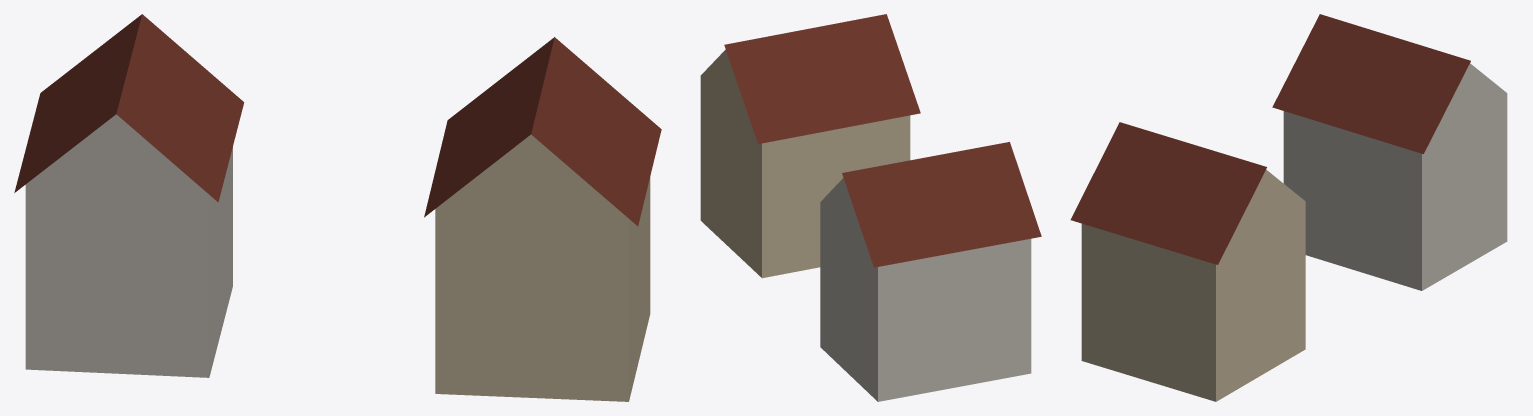
3 renders of one model, left to right at view 1: azimuth 30°, elevation 25°; view 2: azimuth 150°, elevation 25°; view 3: azimuth 270°, elevation 25°, orthographic. The views are drawn at different scales.
Visible parts, largest first — view 1: buildings; view 2: buildings; view 3: buildings.
Part boxes in pixels (x1,y1,x2,y2): buildings: (14,14,661,401); buildings: (700,14,1041,401); buildings: (1070,14,1507,401).
Size of the model in its own units: 18.71 by 8.67 by 16.72.
